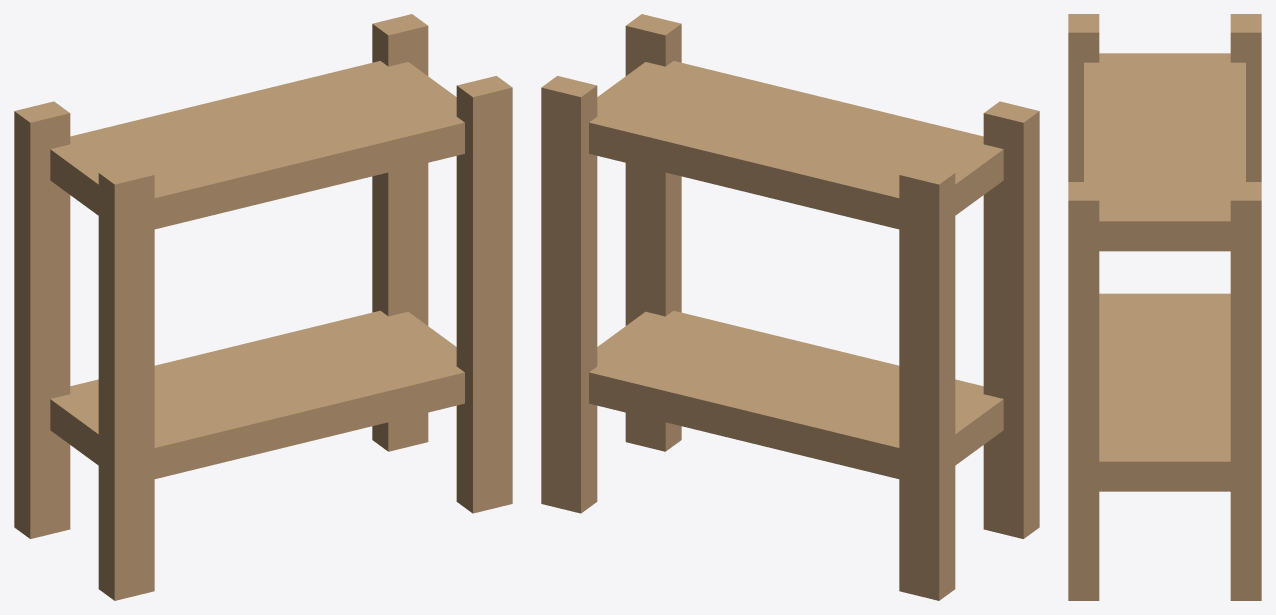
The model's file is bookcase-low.glb.
3 renders of one model, left to right at view 1: azimuth 30°, elevation 25°; view 2: azimuth 150°, elevation 25°; view 3: azimuth 270°, elevation 25°, orthographic. The views are drawn at different scales.
Parts seen in each view (by area): view 1: bookcase-low; view 2: bookcase-low; view 3: bookcase-low.
Boxes of the visible parts, x1,y1,x2,y2 form: bookcase-low: (14,14,512,600); bookcase-low: (541,14,1039,600); bookcase-low: (1068,14,1261,600).
Size of the model in its own units: 0.8 by 0.8 by 0.35.
